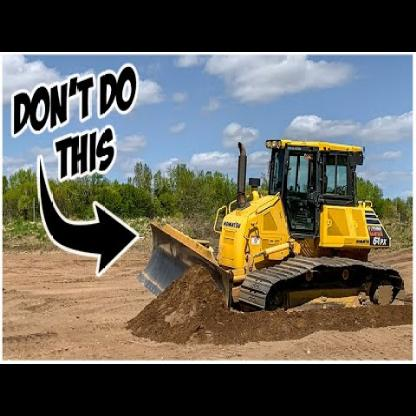bull_dozer/loader/grader: (143, 114, 403, 325)
